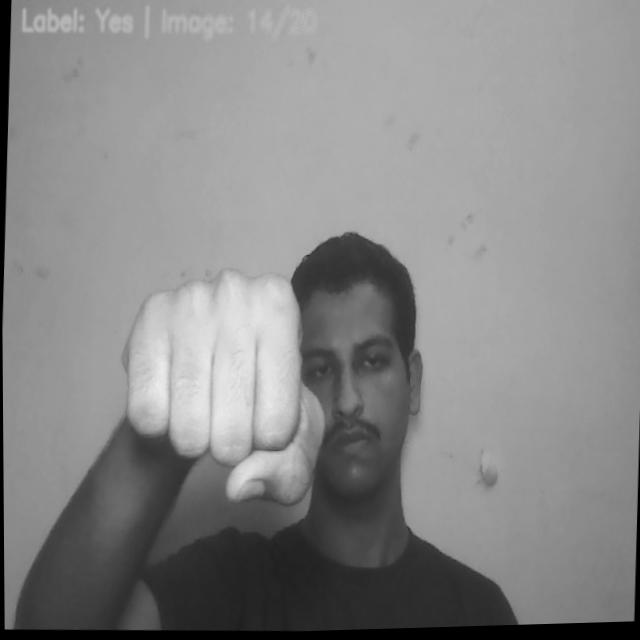Yes: (115, 268, 332, 512)
